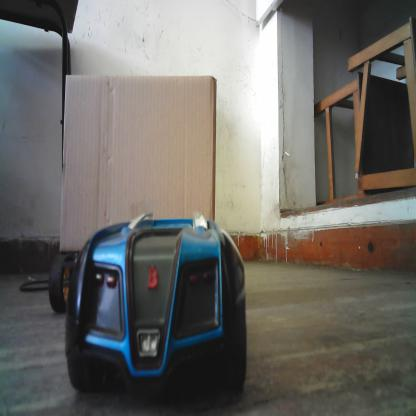LeadTruck: (53, 80, 221, 310)
